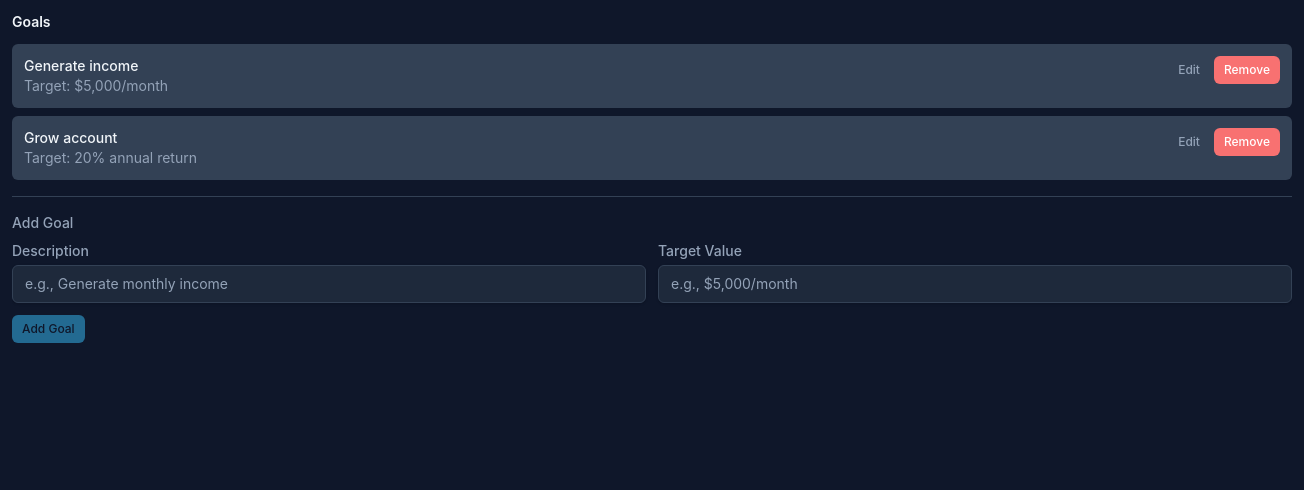
Test: GoalsSection › cancels edit mode without saving
This screenshot has width=1304, height=490.
Click the button with aria-label "edit goal: generate income". click: (1189, 70)
box: [1168,56,1210,84]
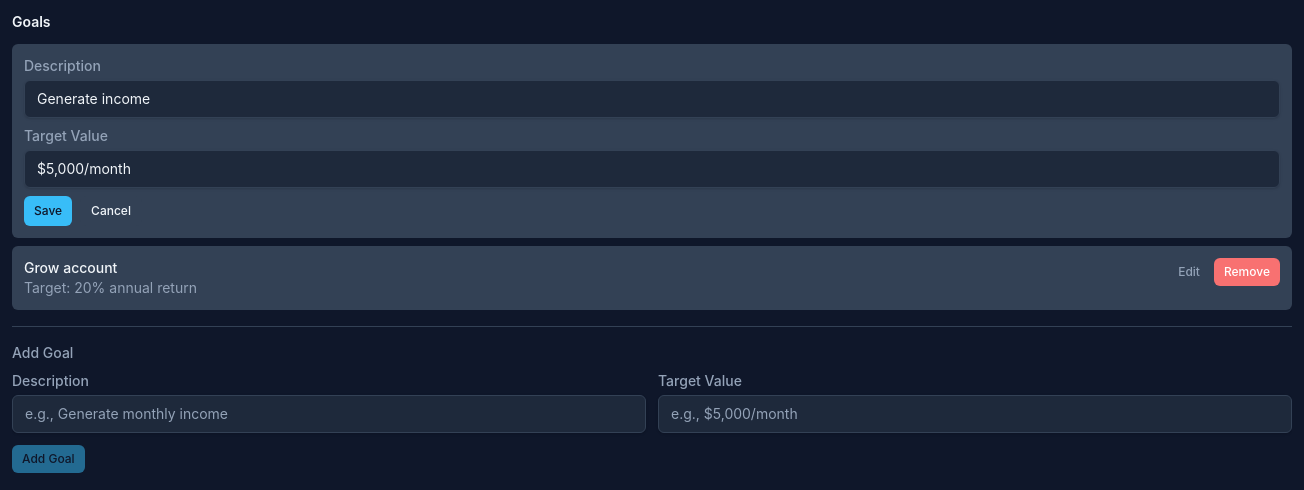
Click the button "Cancel". click: (111, 211)
box: [80,196,142,226]
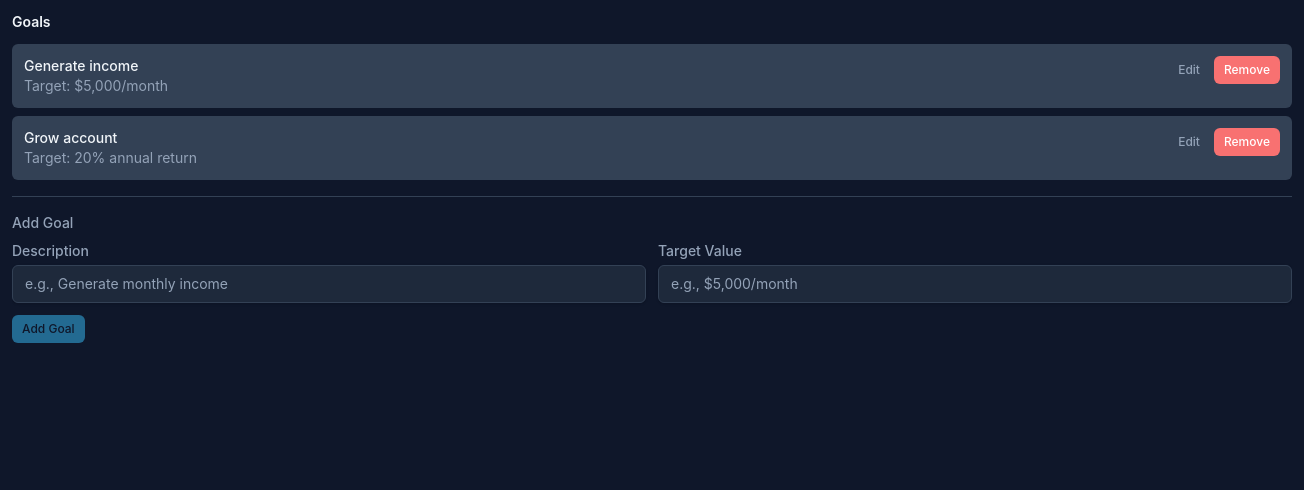
Now the text "Generate income" is shown, box [24,57,138,74]
